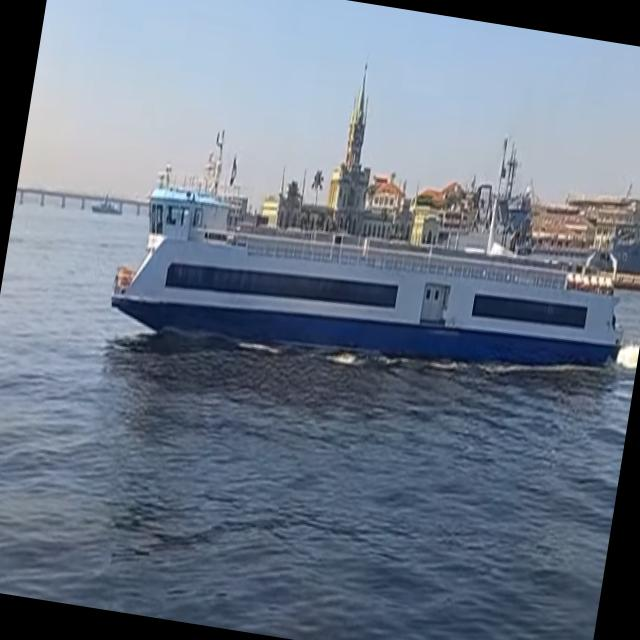Passenger: (112, 132, 622, 365)
